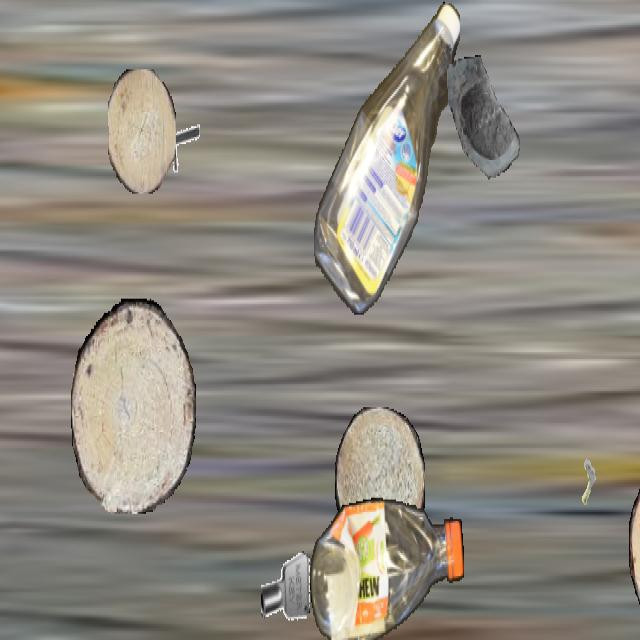glass: (447, 55, 529, 201)
metal: (261, 544, 311, 633), (566, 454, 606, 524), (162, 108, 200, 176)
plastic: (314, 2, 460, 314), (310, 496, 464, 638)
wood: (71, 299, 195, 512), (335, 407, 425, 557), (108, 69, 176, 194), (629, 457, 640, 638)
